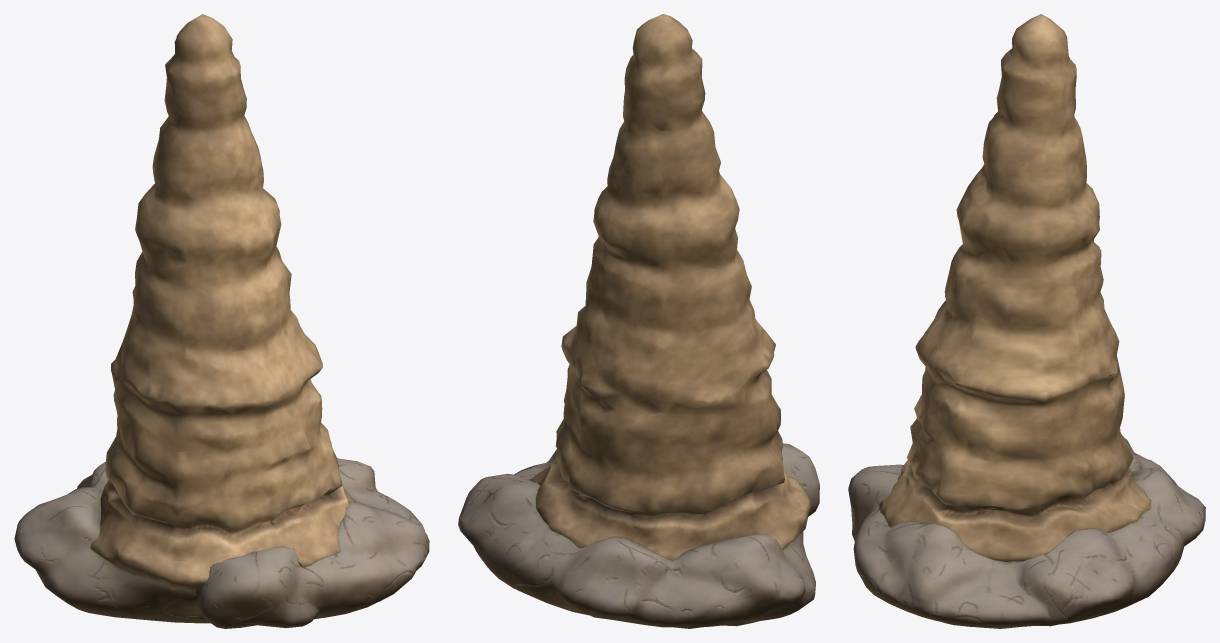
File: trap_drip_fat.glb
3 renders of one model, left to right at view 1: azimuth 30°, elevation 25°; view 2: azimuth 150°, elevation 25°; view 3: azimuth 270°, elevation 25°, orthographic. The views are drawn at different scales.
Visible parts, largest first — view 1: stone, rock; view 2: stone, rock; view 3: stone, rock.
Part boxes in pixels (<box>): stone: <box>90,14,354,590</box>; rock: <box>14,457,429,628</box>; stone: <box>530,14,810,560</box>; rock: <box>458,443,819,628</box>; stone: <box>879,14,1150,561</box>; rock: <box>848,436,1205,628</box>.
Size of the model in its own units: 1.05 by 1.68 by 0.9701.
2 materials, 2 textured.
